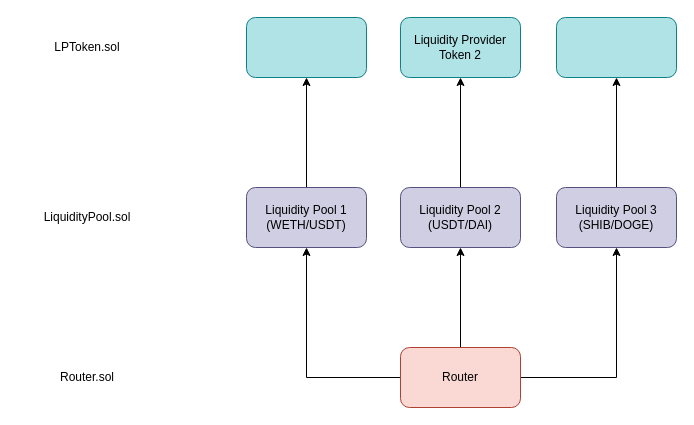
This 694x425 diagram has some shape labels left out. The shapes that lost their labels are listed below. From the top down, each one's centre as x and y in pixels, then its label:
point 306,47: Liquidity Provider Token 1
point 616,47: Liquidity Provider Token 3
